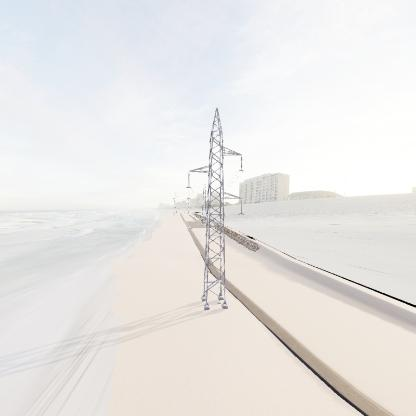tower: (185, 106, 249, 315)
